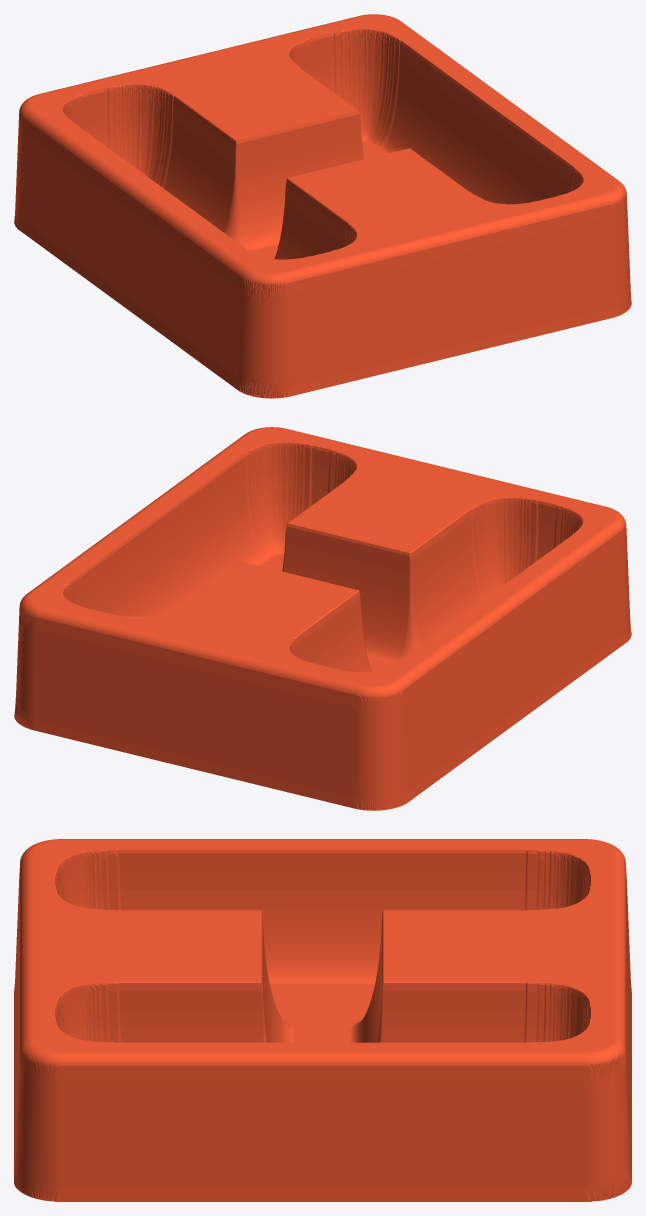
The model's file is mold.glb.
The picture shows the model from 3 angles, top to bottom: view 1: azimuth 30°, elevation 25°; view 2: azimuth 150°, elevation 25°; view 3: azimuth 270°, elevation 25°; orthographic projection. The views are drawn at different scales.
Parts seen in each view (by area): view 1: geometry_0; view 2: geometry_0; view 3: geometry_0.
Boxes of the visible parts, x1,y1,x2,y2 form: geometry_0: (14, 14, 631, 398); geometry_0: (14, 427, 631, 810); geometry_0: (14, 839, 631, 1201).
Size of the model in its own units: 0.1026 by 0.0299 by 0.1178.
